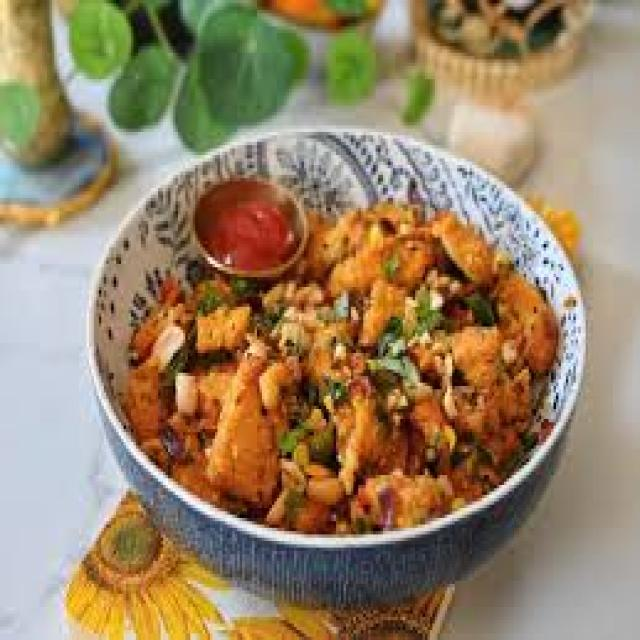BAJI: (111, 191, 556, 525)
